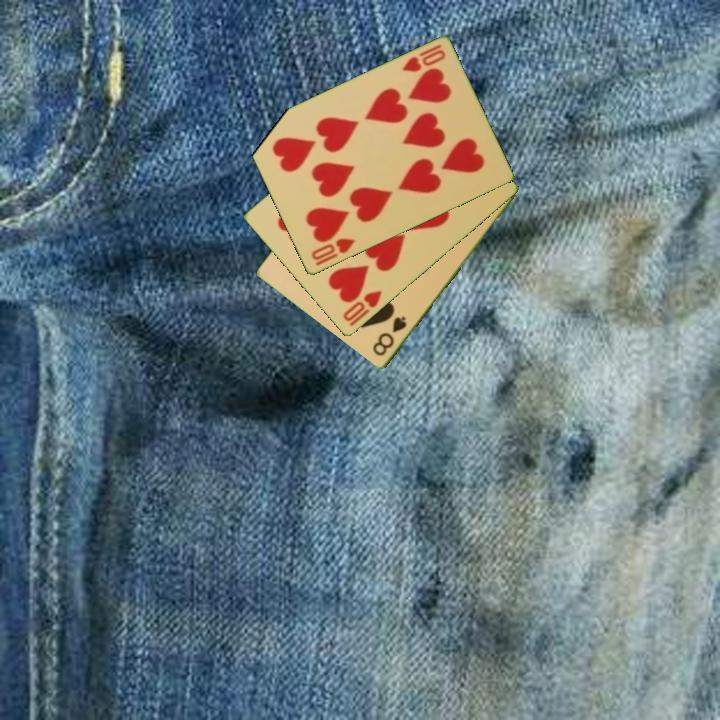10h: (339, 287, 385, 330), (399, 41, 448, 75), (307, 235, 358, 264)
8s: (369, 313, 410, 359)
